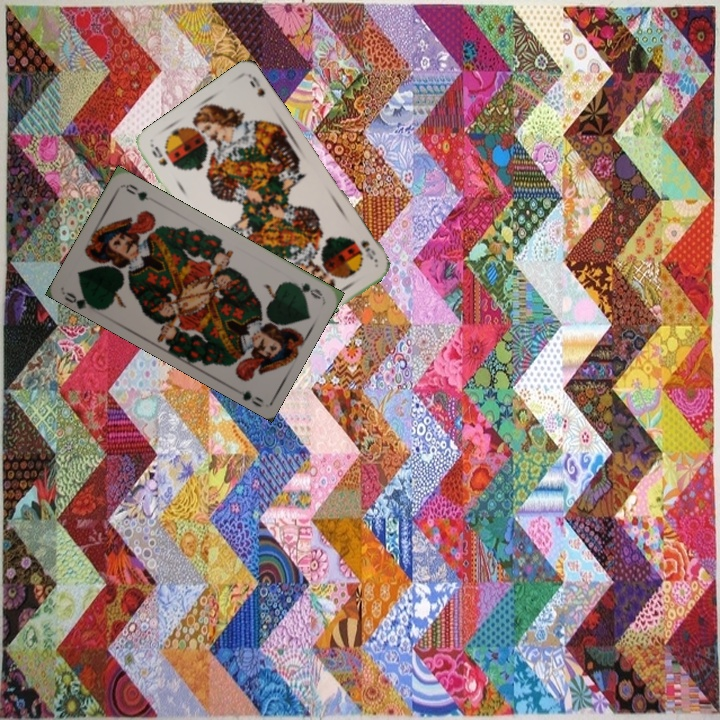GO: (61, 288, 100, 312), (286, 278, 325, 302)
SO: (148, 142, 170, 168), (357, 236, 378, 262)
